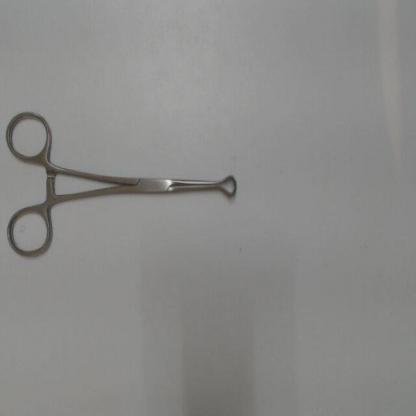Babcock Tissue Forceps: (0, 106, 239, 263)
